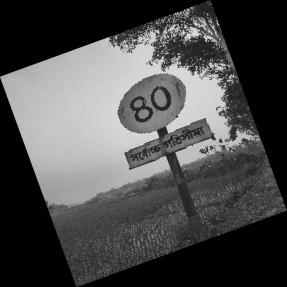Speed-limit: (117, 73, 212, 173)
